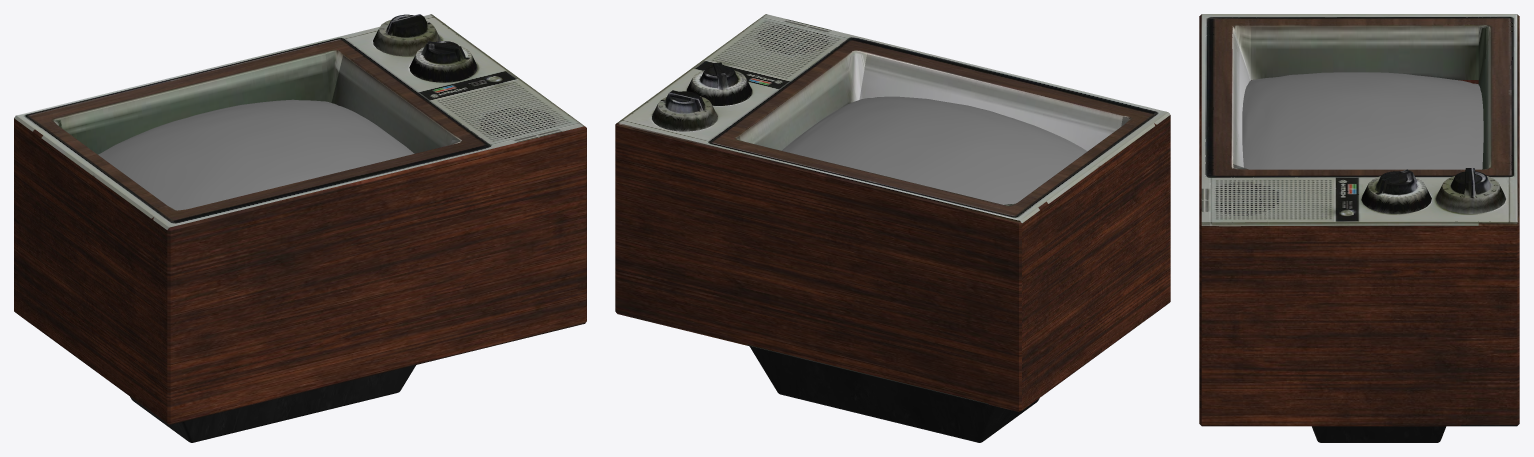
The picture shows the model from 3 angles, left to right: view 1: azimuth 30°, elevation 25°; view 2: azimuth 150°, elevation 25°; view 3: azimuth 270°, elevation 25°; orthographic projection. The views are drawn at different scales.
Parts seen in each view (by area): view 1: polySurface1, screenSurface, pCube2, pCube6; view 2: polySurface1, screenSurface, pCube2, pCube6; view 3: polySurface1, screenSurface, pCube6, pCube2.
Part boxes in pixels (box(x1,y1,x2,y2)): polySurface1: box(14, 14, 586, 424); screenSurface: box(98, 99, 414, 210); pCube2: box(130, 365, 415, 442); pCube6: box(373, 14, 477, 82); polySurface1: box(615, 14, 1170, 412); screenSurface: box(782, 96, 1087, 204); pCube2: box(749, 346, 1039, 442); pCube6: box(652, 62, 752, 131); polySurface1: box(1199, 14, 1519, 426); screenSurface: box(1242, 72, 1483, 169); pCube6: box(1361, 168, 1505, 213); pCube2: box(1312, 426, 1446, 442).
Bounding box in the file's own units: 1.71 × 1.17 × 1.1.
Materials: 2 (1 with a texture image).
